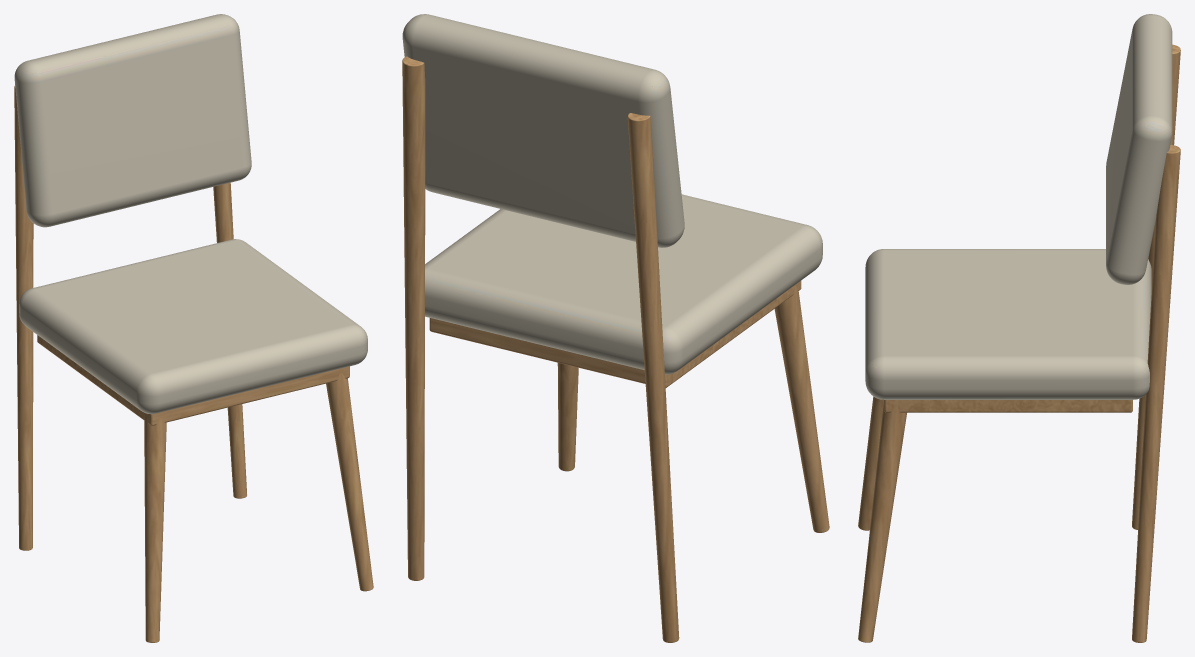
Rendered from chair.glb.
3 renders of one model, left to right at view 1: azimuth 30°, elevation 25°; view 2: azimuth 150°, elevation 25°; view 3: azimuth 270°, elevation 25°, orthographic. The views are drawn at different scales.
Parts seen in each view (by area): view 1: Cube; view 2: Cube; view 3: Cube.
Boxes of the visible parts, x1,y1,x2,y2 form: Cube: [14, 14, 373, 642]; Cube: [402, 14, 829, 642]; Cube: [858, 14, 1180, 642].
Bounding box in the file's own units: 0.46 × 0.9201 × 0.5186.
Materials: 1 (1 with a texture image).
